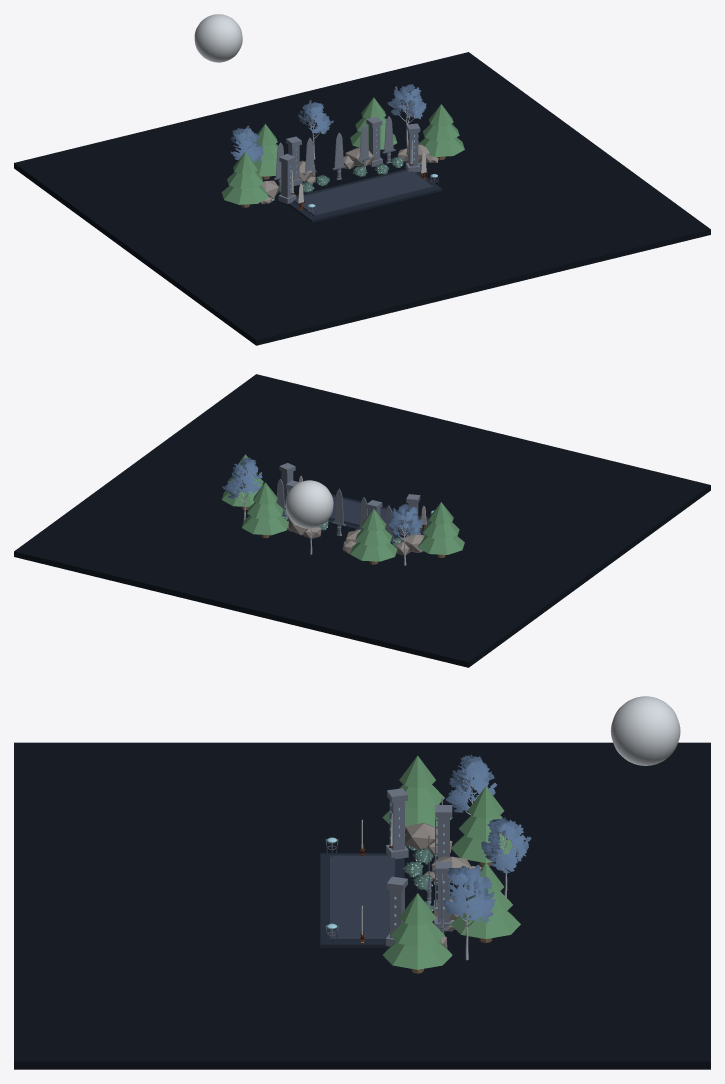
The model's file is moonlit_wilderness.glb.
3 views of the same model, one above another, from view 1: azimuth 30°, elevation 25°; view 2: azimuth 150°, elevation 25°; view 3: azimuth 270°, elevation 25° (orthographic). The views are drawn at different scales.
Visible parts, largest first — view 1: mesh 1, mesh 0; view 2: mesh 1, mesh 0; view 3: mesh 1, mesh 0.
Boxes of the visible parts, <box> form: mesh 1: <box>14,14,710,345</box>; mesh 0: <box>293,170,432,216</box>; mesh 1: <box>14,374,710,667</box>; mesh 0: <box>329,496,430,536</box>; mesh 1: <box>14,696,710,1069</box>; mesh 0: <box>330,855,394,940</box>.
Size of the model in its own units: 52 by 13.58 by 48.
